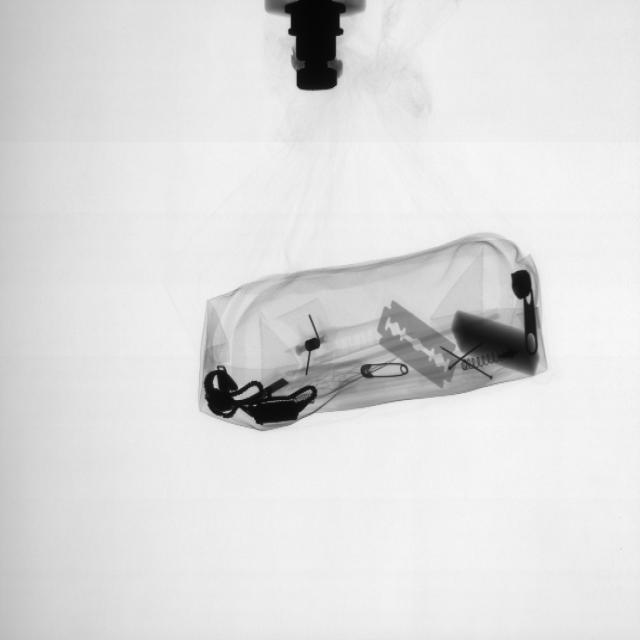BLADE: (374, 298, 459, 390)
